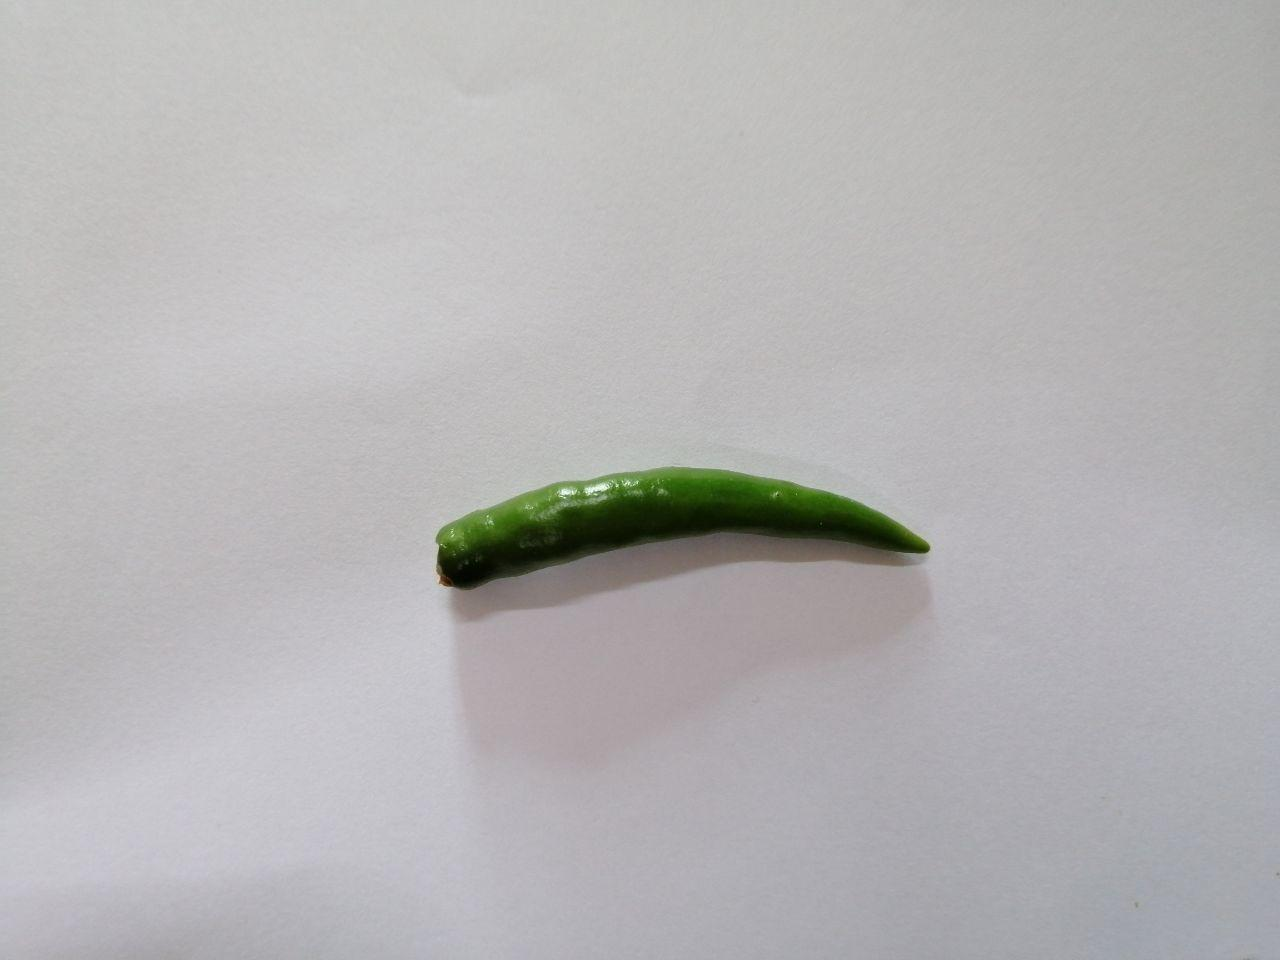lada hijau: (425, 449, 947, 627)
